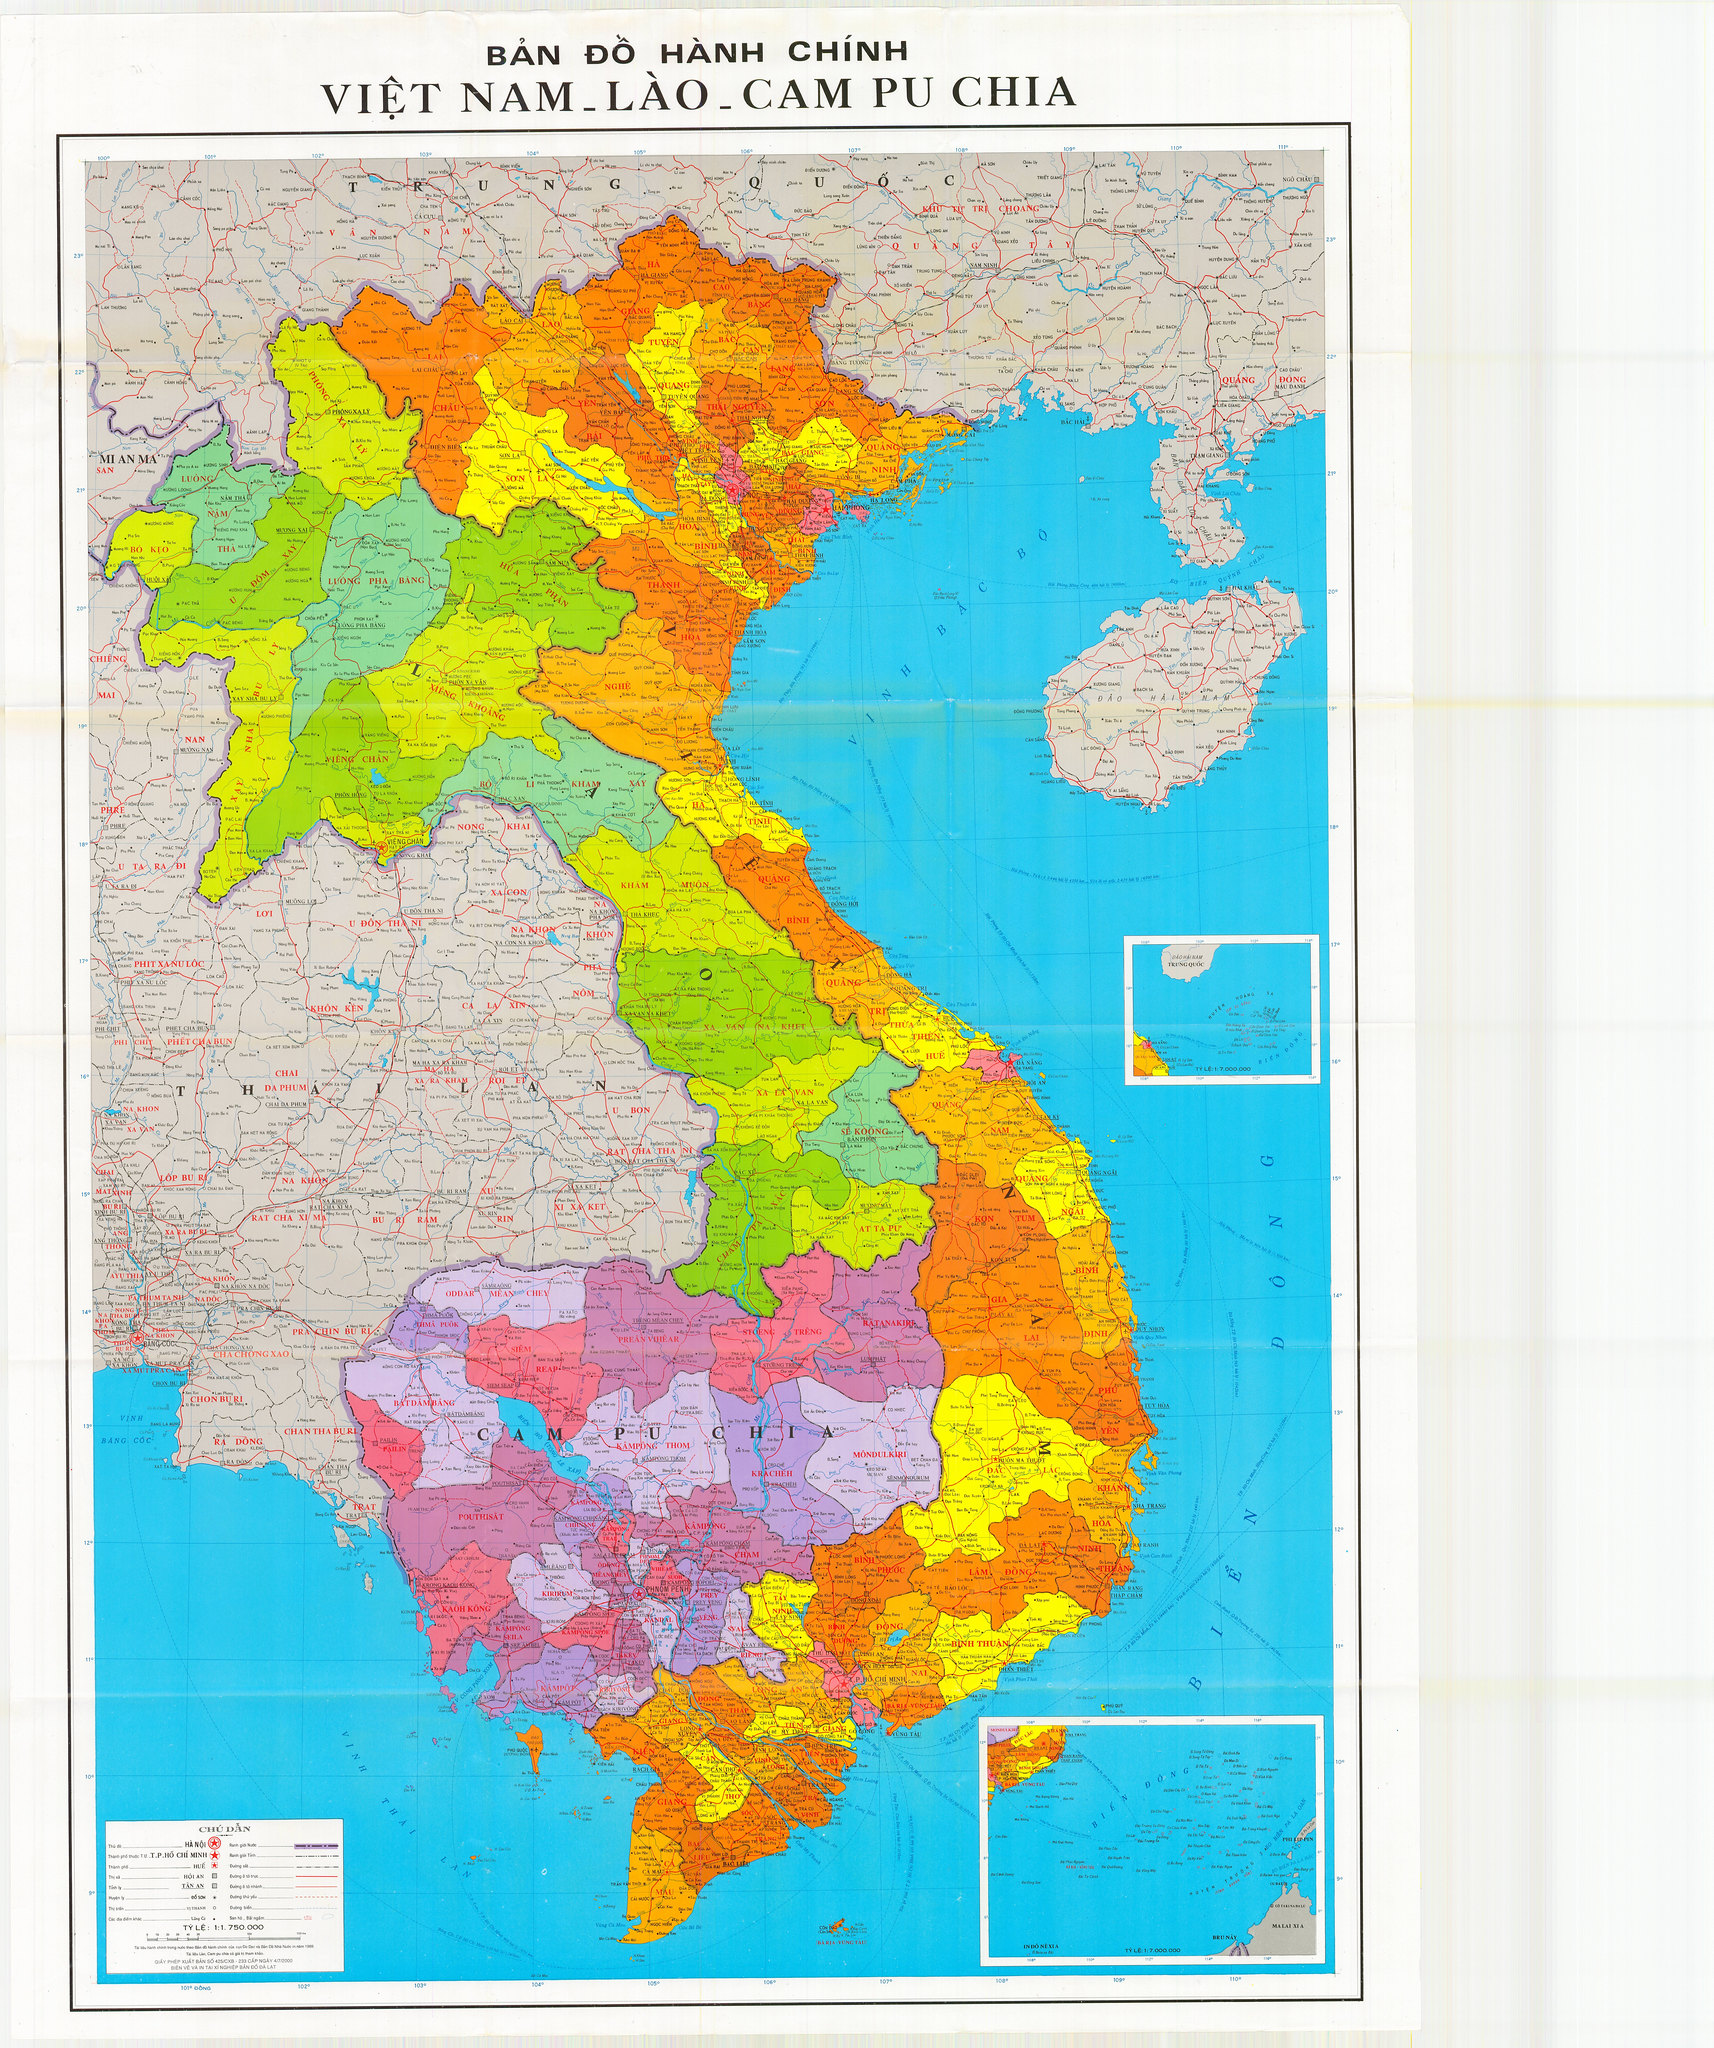Island: (1042, 1755, 1299, 1920), (1161, 976, 1296, 1077)
